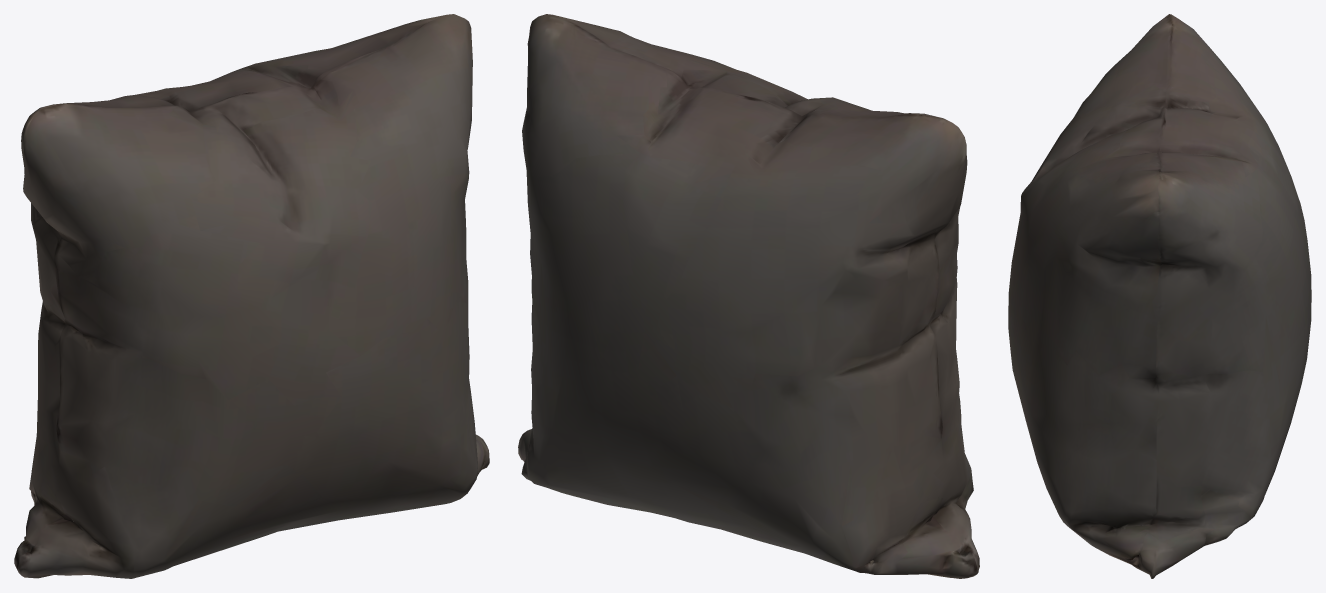
Rendered from cushion.glb.
The picture shows the model from 3 angles, left to right: view 1: azimuth 30°, elevation 25°; view 2: azimuth 150°, elevation 25°; view 3: azimuth 270°, elevation 25°; orthographic projection. The views are drawn at different scales.
Size of the model in its own units: 2 by 1.9 by 1.33.
1 material, 1 textured.
